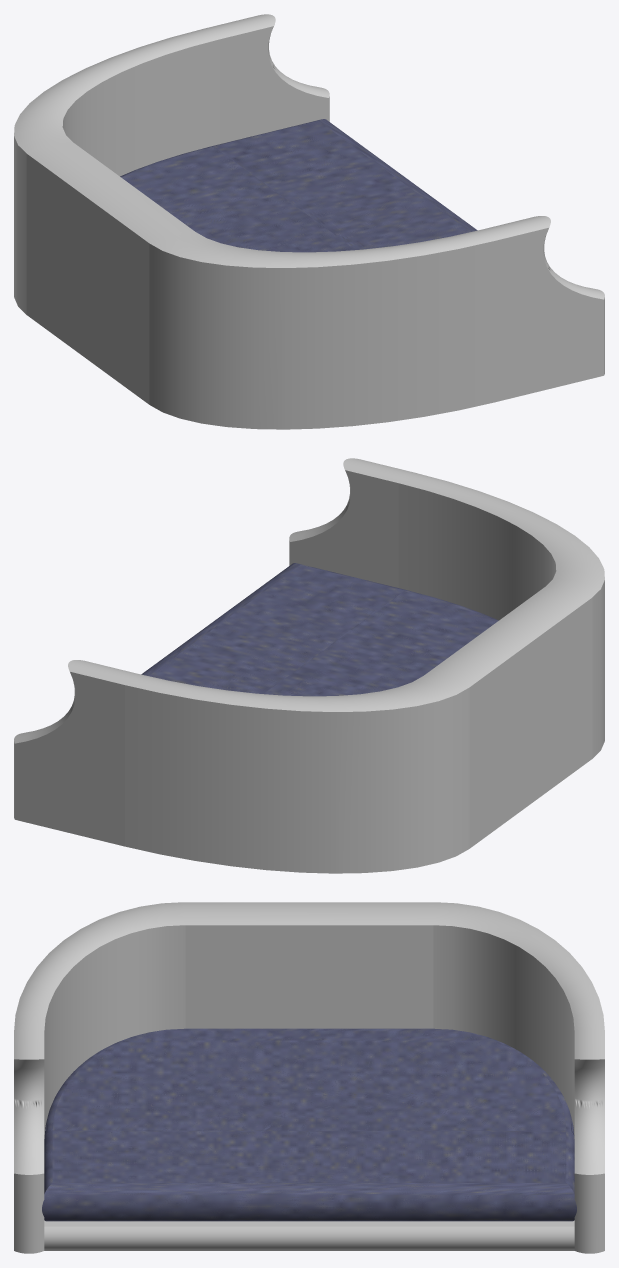
Rendered from Sofa.fbx.
3 renders of one model, top to bottom at view 1: azimuth 30°, elevation 25°; view 2: azimuth 150°, elevation 25°; view 3: azimuth 270°, elevation 25°, orthographic.
Parts seen in each view (by area): view 1: group_1.001, group_2.001; view 2: group_1.001, group_2.001; view 3: group_1.001, group_2.001.
Part boxes in pixels (box(x1,y1,x2,y2)): group_1.001: box(14, 14, 604, 429); group_2.001: box(120, 119, 477, 252); group_1.001: box(14, 458, 604, 873); group_2.001: box(141, 563, 498, 696); group_1.001: box(14, 902, 604, 1253); group_2.001: box(42, 1028, 576, 1221).
Size of the model in its own units: 669 by 279 by 893.
